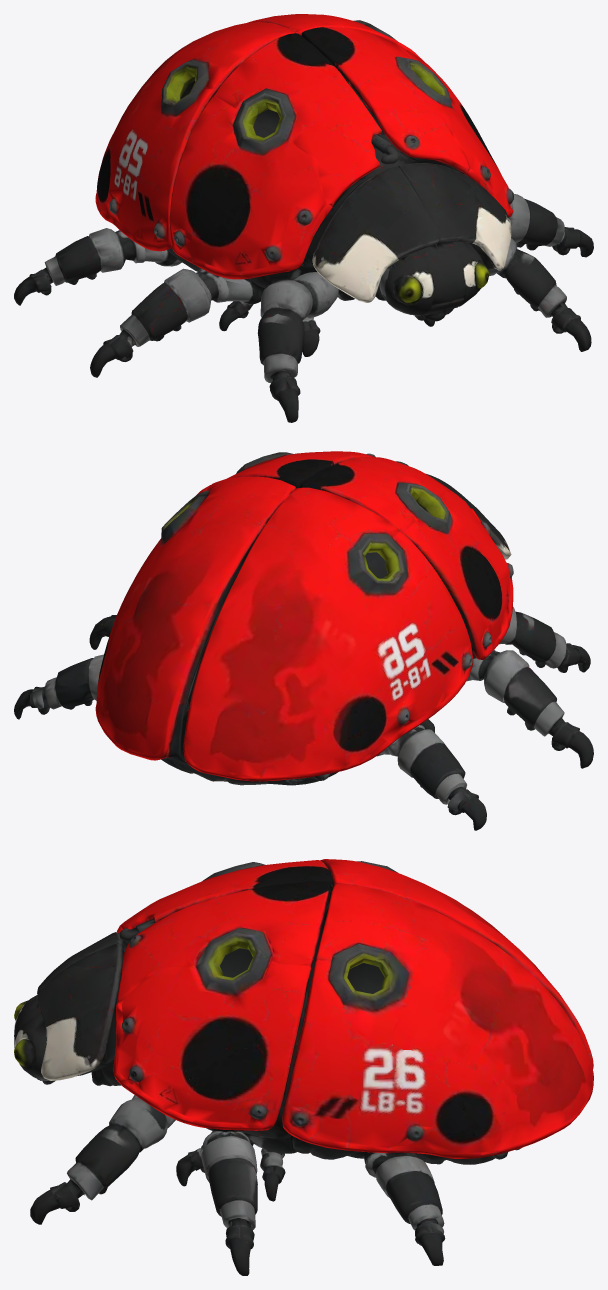
The model's file is ladybug.glb.
3 views of the same model, one above another, from view 1: azimuth 30°, elevation 25°; view 2: azimuth 150°, elevation 25°; view 3: azimuth 270°, elevation 25° (orthographic). The views are drawn at different scales.
Size of the model in its own units: 3.4 by 1.69 by 3.23.
Materials: 1 (1 with a texture image).
